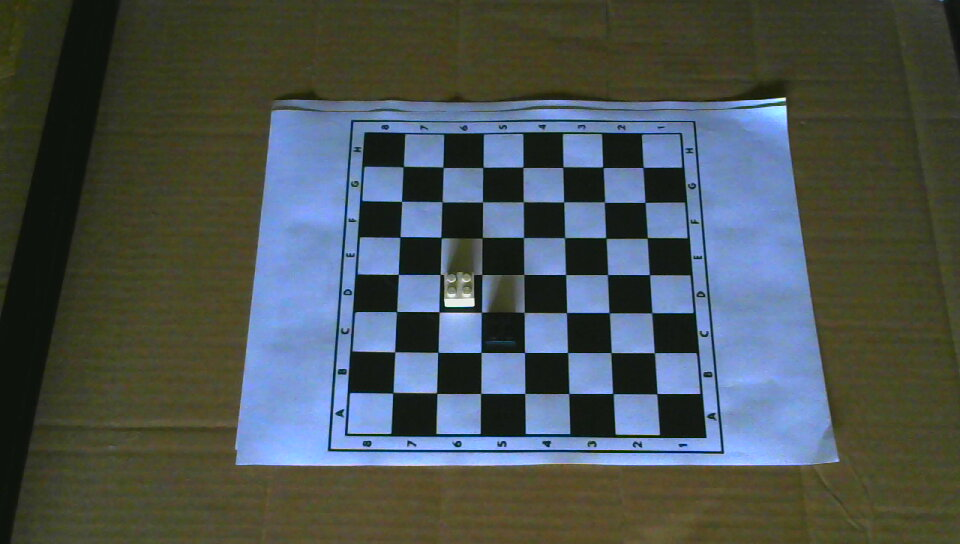bp: (481, 310, 520, 351)
wp: (441, 268, 476, 310)
